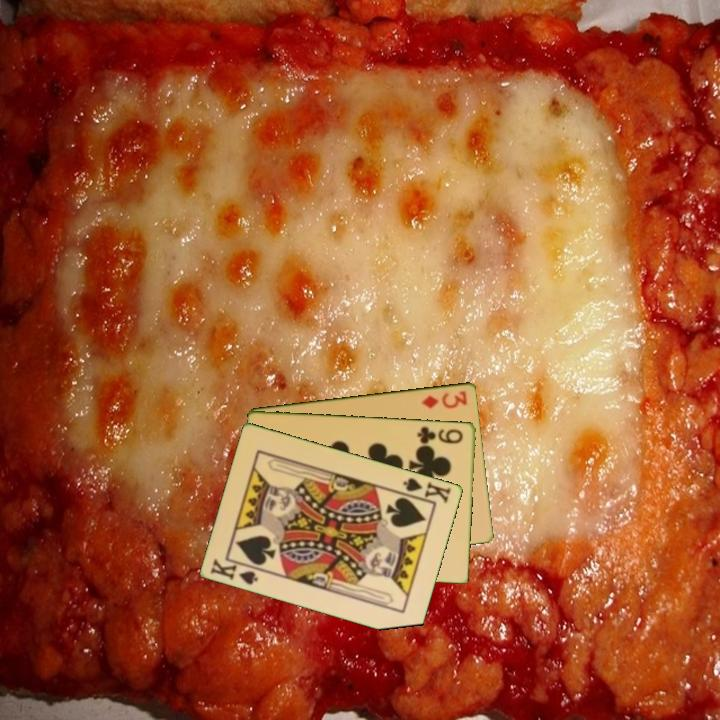3d: (418, 387, 470, 411)
9c: (414, 422, 466, 446)
Ks: (207, 555, 265, 587), (397, 474, 454, 506)
